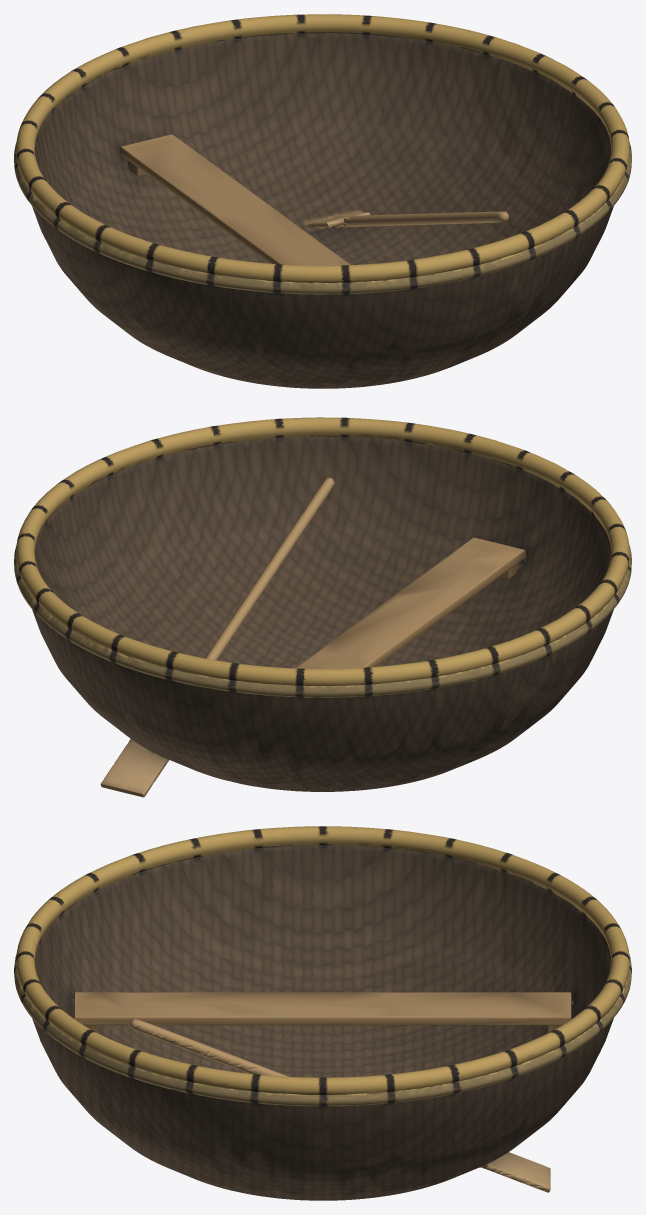
File: thung_chai_edits.glb
3 renders of one model, top to bottom at view 1: azimuth 30°, elevation 25°; view 2: azimuth 150°, elevation 25°; view 3: azimuth 270°, elevation 25°, orthographic.
Parts seen in each view (by area): view 1: thung_chai_edits; view 2: thung_chai_edits; view 3: thung_chai_edits.
Part boxes in pixels (x1=…): thung_chai_edits: x1=14, y1=14, x2=631, y2=388; thung_chai_edits: x1=14, y1=417, x2=631, y2=797; thung_chai_edits: x1=14, y1=826, x2=631, y2=1200.
Bounding box in the file's own units: 1.84 × 0.628 × 1.84.
Materials: 1 (1 with a texture image).
